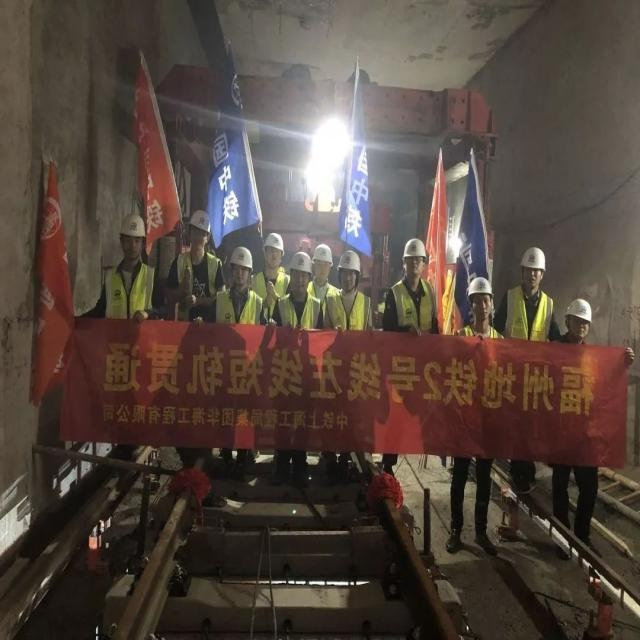Con_Casco: (117, 211, 147, 259), (517, 245, 547, 288), (404, 237, 426, 280), (263, 230, 285, 273)
